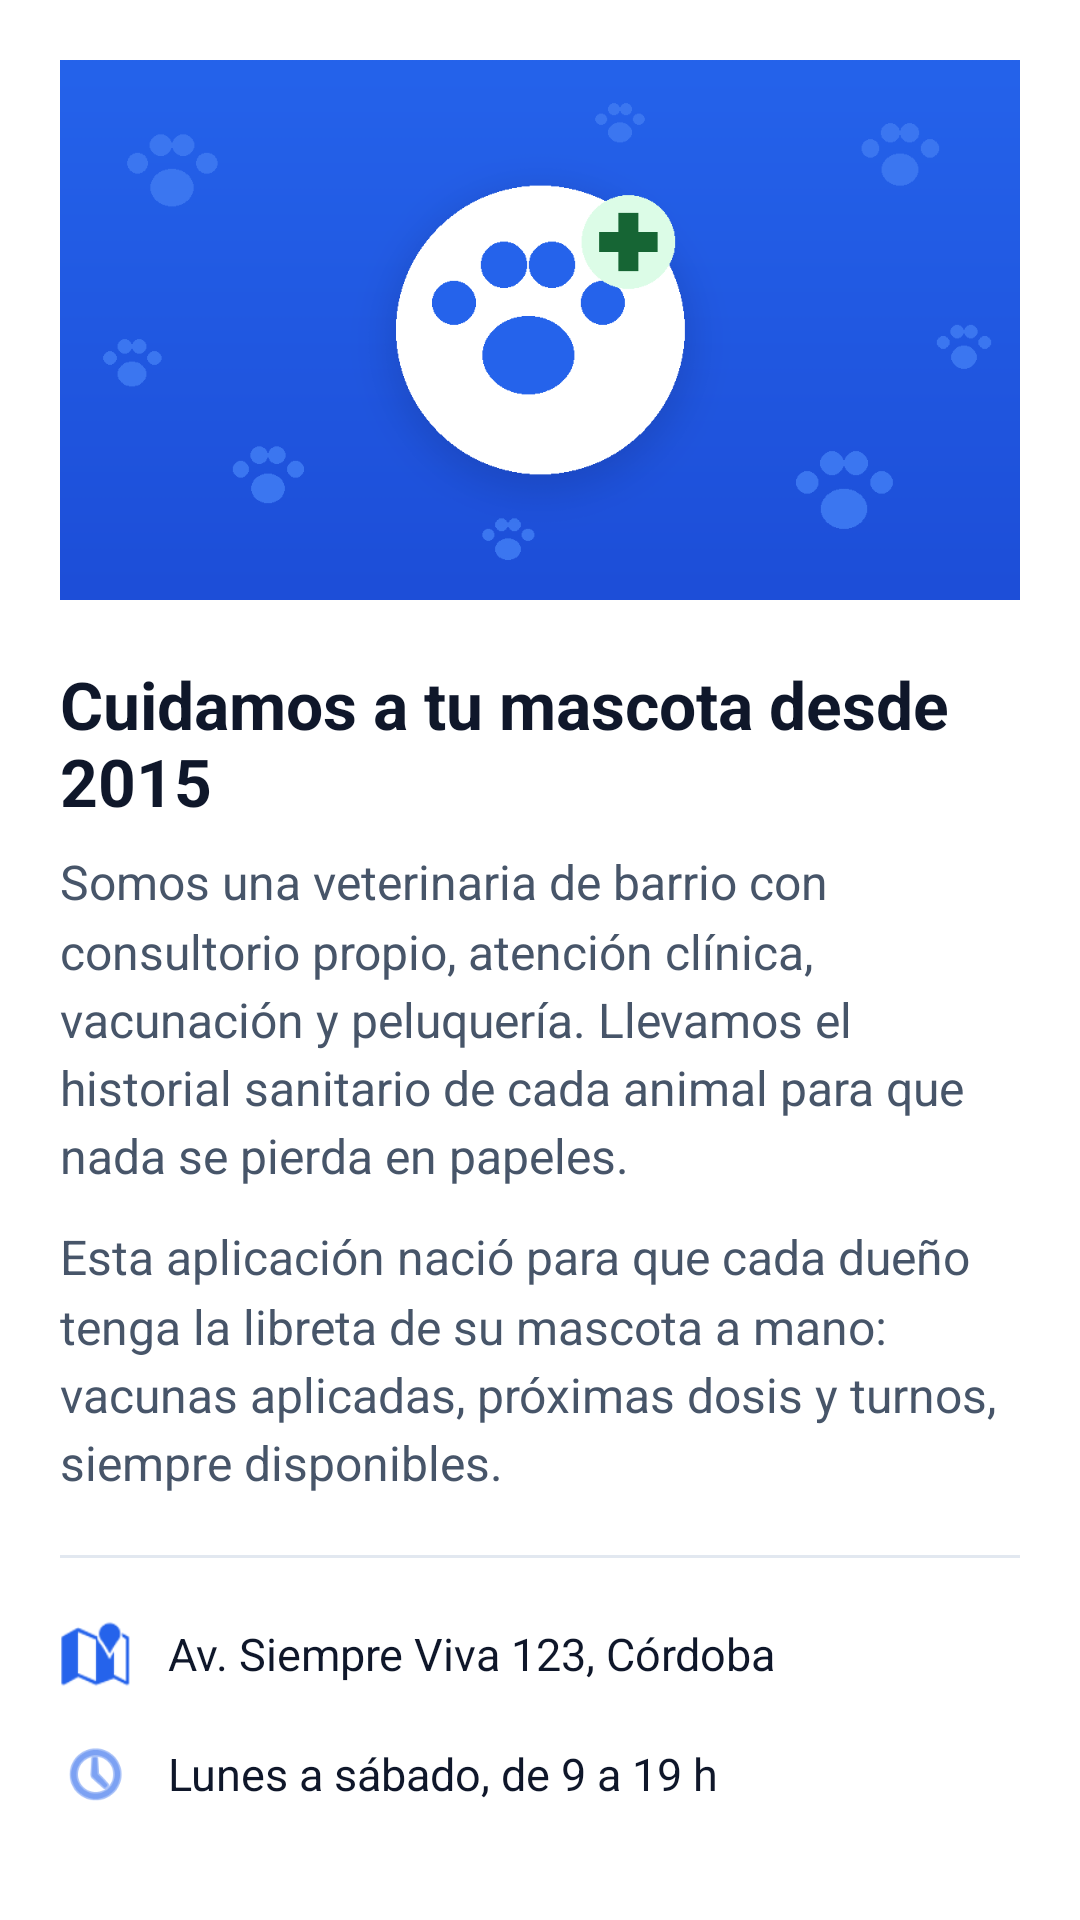

Where icons sit on this 1080px×1920px app screen, as (x1, y1, x2, y2):
map: (61, 1622, 130, 1686)
recent history: (70, 1748, 122, 1800)
